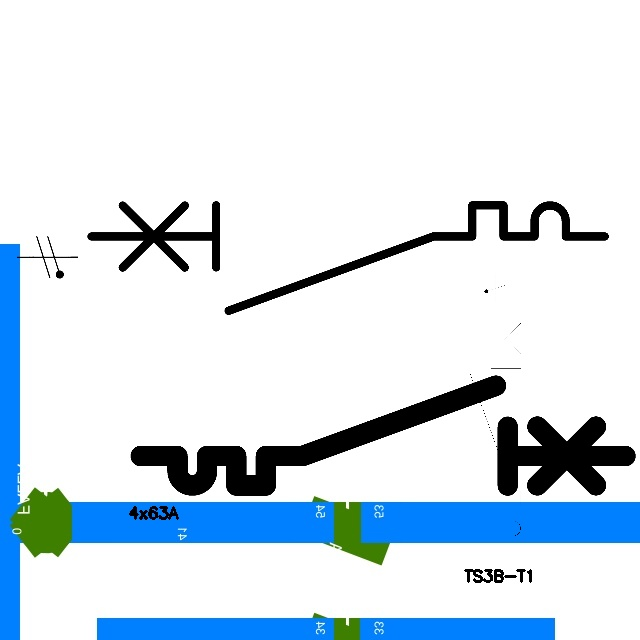interruptor_termomagnetico: (78, 192, 618, 324), (128, 373, 638, 498), (464, 302, 527, 560)
